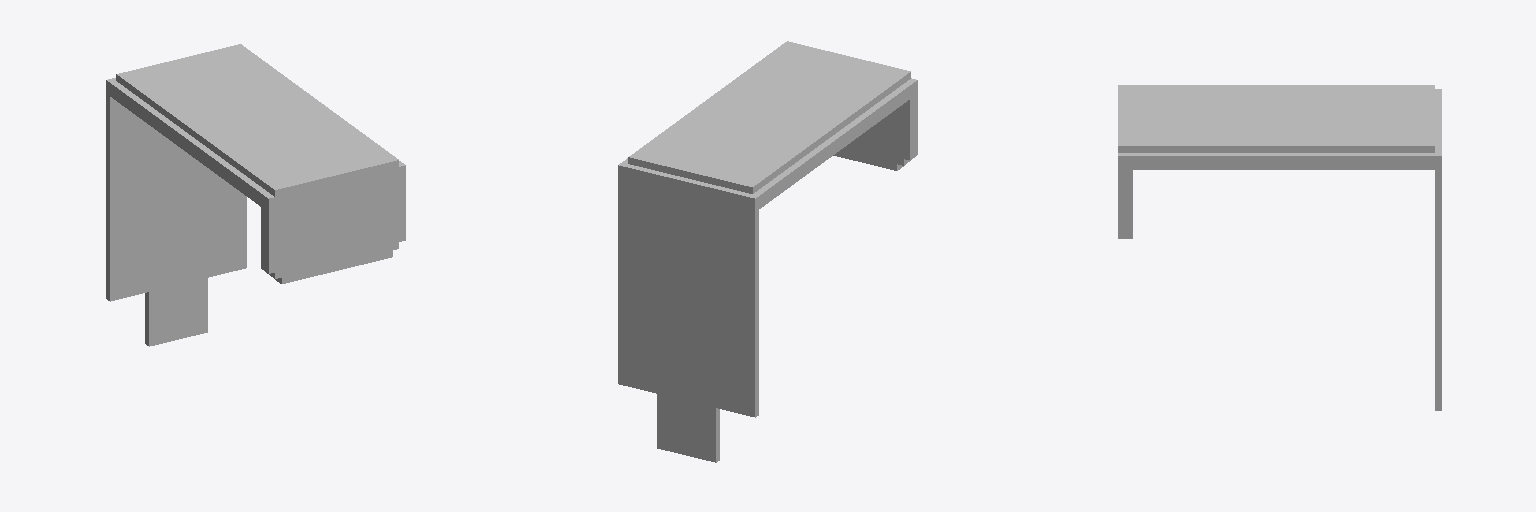
Rendered from hair4.obj.
3 views of the same model, side by side, from view 1: azimuth 30°, elevation 25°; view 2: azimuth 150°, elevation 25°; view 3: azimuth 270°, elevation 25° (orthographic).
Visible parts, largest first — view 1: object 1; view 2: object 1; view 3: object 1.
Part boxes in pixels (left/top/right/bottom): object 1: left=106, top=44, right=405, bottom=346; object 1: left=618, top=41, right=917, bottom=462; object 1: left=1118, top=85, right=1441, bottom=410.
Size of the model in its own units: 2.1 by 4.1 by 4.3.